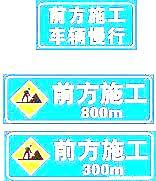sign: (4, 75, 152, 123), (6, 132, 153, 179), (38, 1, 134, 48)
